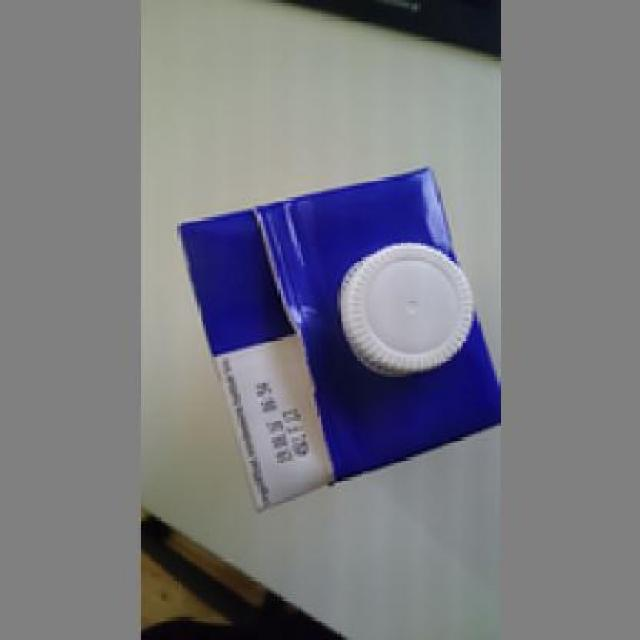Milk: (159, 166, 512, 523)
